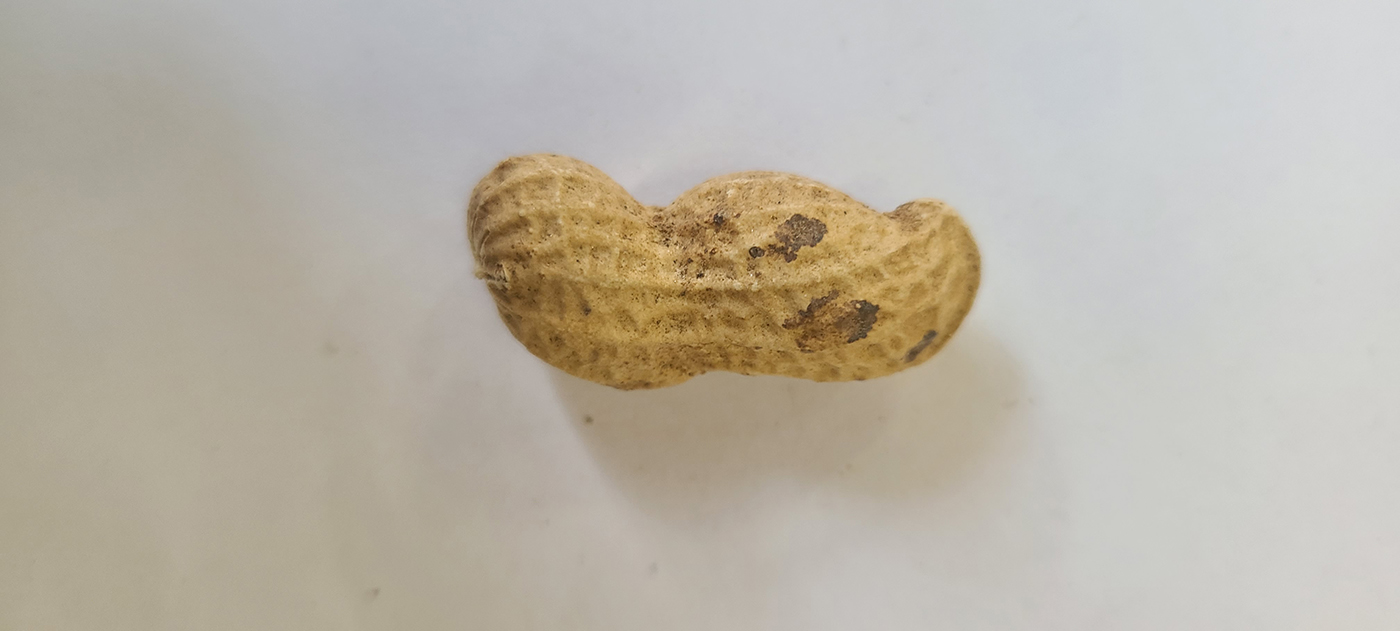h: (466, 148, 986, 392)
